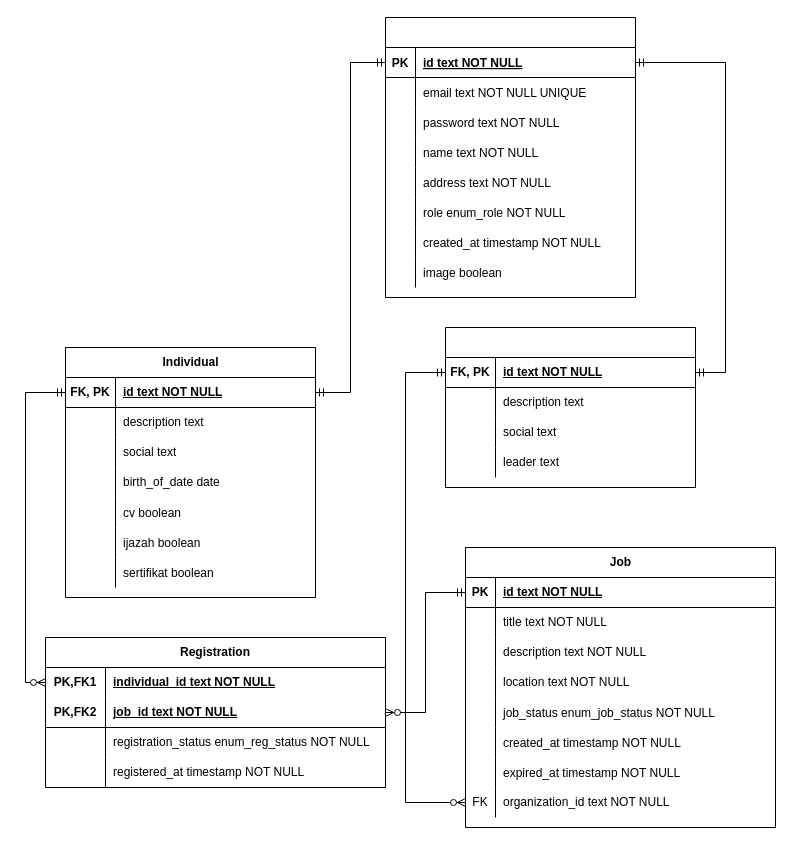
The diagram is 793 pixels wide and 845 high, and some of its shapes have lost their labels. Each missing label, with the box of its shape:
Organization: (444, 326, 696, 488)
User: (384, 16, 636, 298)
